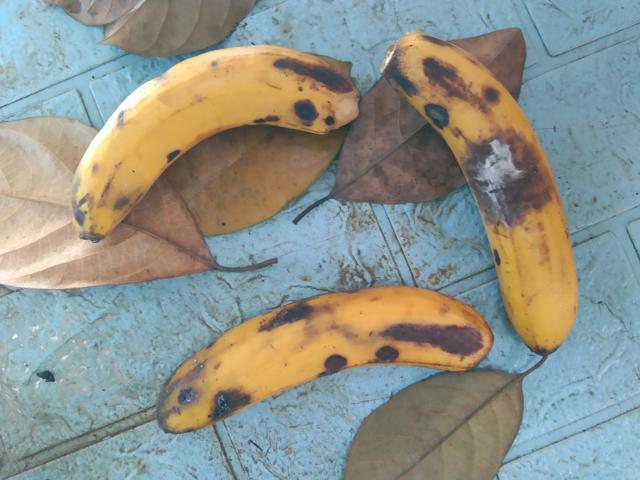overripe: (382, 22, 591, 392), (141, 277, 491, 441)
ripe: (52, 33, 365, 264)
rotten: (439, 98, 566, 243)
